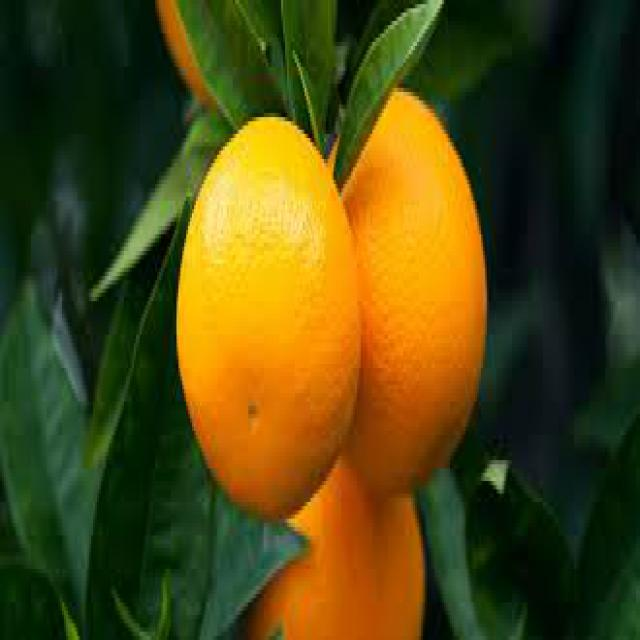orange: (172, 111, 362, 524), (337, 84, 487, 492), (250, 449, 425, 640)
